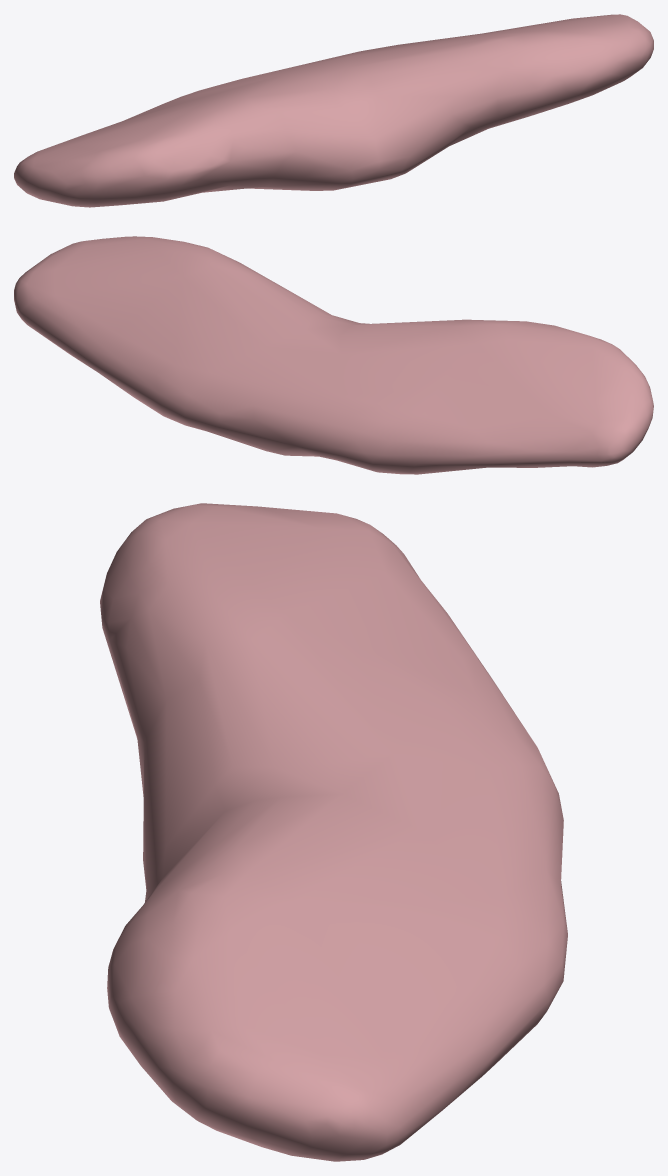
Rendered from fma62072_fj1799.glb.
3 renders of one model, top to bottom at view 1: azimuth 30°, elevation 25°; view 2: azimuth 150°, elevation 25°; view 3: azimuth 270°, elevation 25°, orthographic. The views are drawn at different scales.
Visible parts, largest first — view 1: FMA62072_FJ1799; view 2: FMA62072_FJ1799; view 3: FMA62072_FJ1799.
Boxes of the visible parts, x1,y1,x2,y2 form: FMA62072_FJ1799: (14, 14, 653, 207); FMA62072_FJ1799: (14, 236, 653, 474); FMA62072_FJ1799: (100, 503, 567, 1161).
Bounding box in the file's own units: 0.0154 × 0.00273 × 0.00508.
